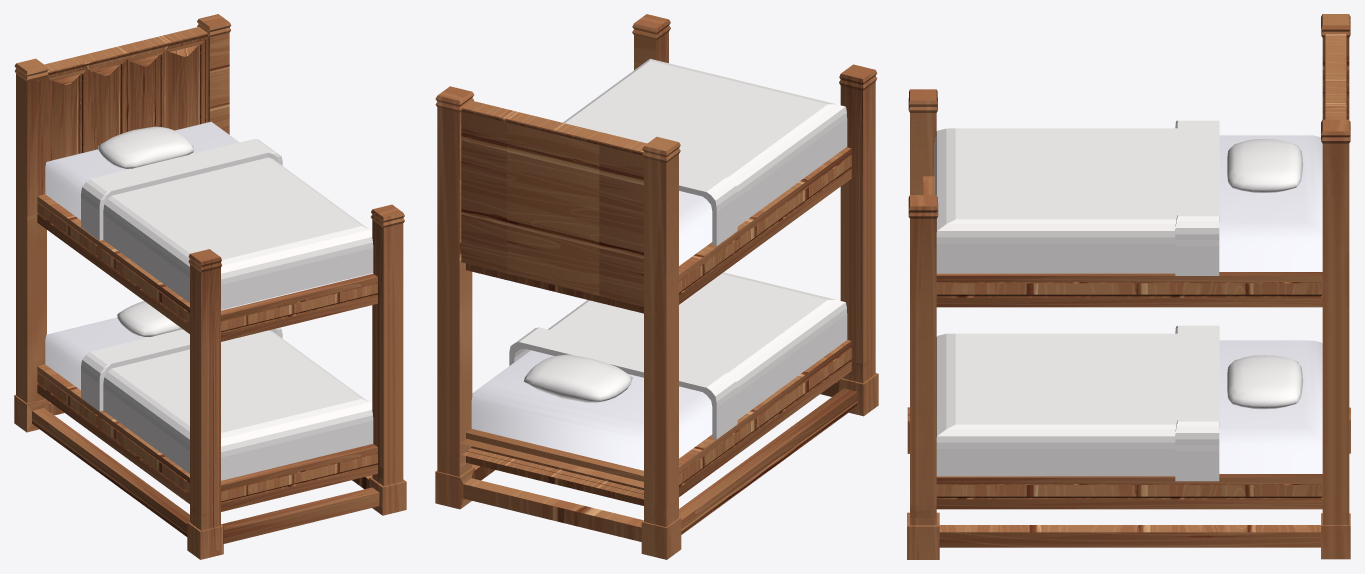
File: double bed verse 2.fbx
The picture shows the model from 3 angles, left to right: view 1: azimuth 30°, elevation 25°; view 2: azimuth 150°, elevation 25°; view 3: azimuth 270°, elevation 25°; orthographic projection. The views are drawn at different scales.
Parts seen in each view (by area): view 1: Plane.006, Plane.008, Plane.005, Plane.003, Plane.007, Plane.004, Cube.005, Cube.003; view 2: Plane.006, Plane.003, Plane.008, Plane.005, Plane.004, Cube.003, Plane.007; view 3: Plane.008, Plane.005, Plane.006, Plane.003, Plane.007, Plane.004, Cube.003, Cube.005.
Boxes of the visible parts, bbox=[...] form: Plane.006: bbox=[14, 14, 404, 530]; Plane.008: bbox=[81, 139, 373, 309]; Plane.005: bbox=[81, 327, 373, 480]; Plane.003: bbox=[14, 364, 406, 559]; Plane.007: bbox=[45, 121, 373, 310]; Plane.004: bbox=[45, 317, 149, 389]; Cube.005: bbox=[98, 126, 193, 168]; Cube.003: bbox=[117, 301, 182, 336]; Plane.006: bbox=[435, 14, 877, 523]; Plane.003: bbox=[435, 340, 878, 559]; Plane.008: bbox=[563, 59, 847, 246]; Plane.005: bbox=[509, 272, 847, 439]; Plane.004: bbox=[471, 350, 712, 470]; Cube.003: bbox=[523, 354, 632, 402]; Plane.007: bbox=[679, 191, 712, 265]; Plane.008: bbox=[934, 120, 1219, 275]; Plane.005: bbox=[936, 325, 1219, 481]; Plane.006: bbox=[908, 14, 1350, 520]; Plane.003: bbox=[907, 407, 1350, 559]; Plane.007: bbox=[1219, 135, 1322, 271]; Plane.004: bbox=[1219, 340, 1322, 473]; Cube.003: bbox=[1227, 355, 1303, 409]; Cube.005: bbox=[1227, 139, 1303, 192].
Bounding box in the file's own units: 2455 × 4099 × 3856.
Materials: 3 (1 with a texture image).
